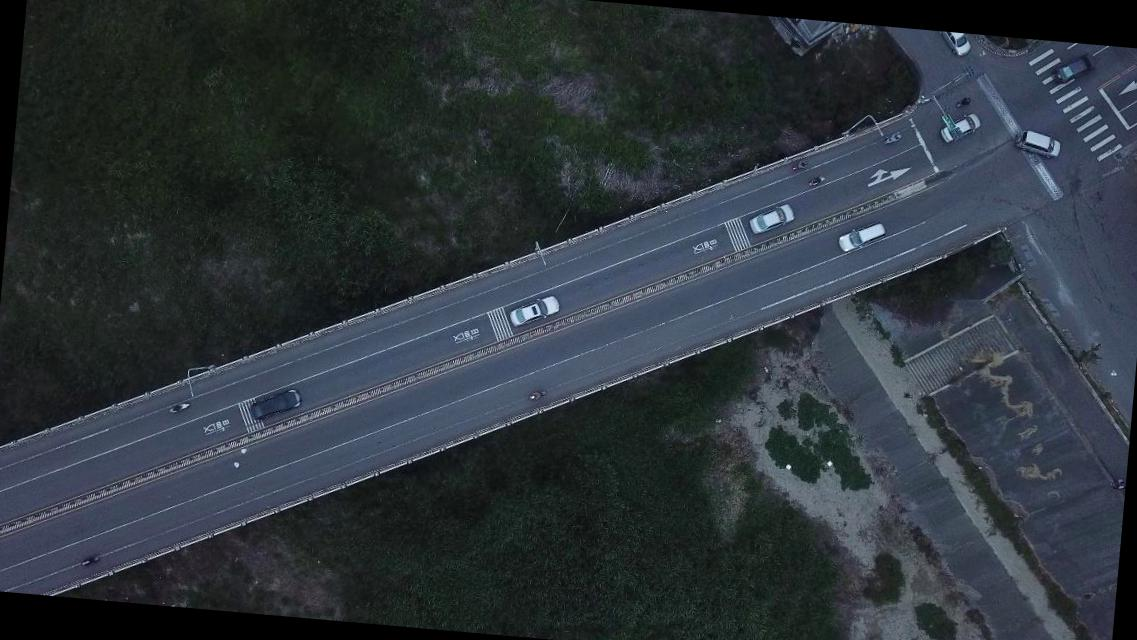vehicle: (506, 292, 560, 332), (248, 385, 303, 423), (835, 218, 887, 256), (748, 200, 795, 238), (1052, 52, 1096, 86), (938, 112, 980, 147), (1012, 130, 1062, 159), (938, 32, 974, 60)
